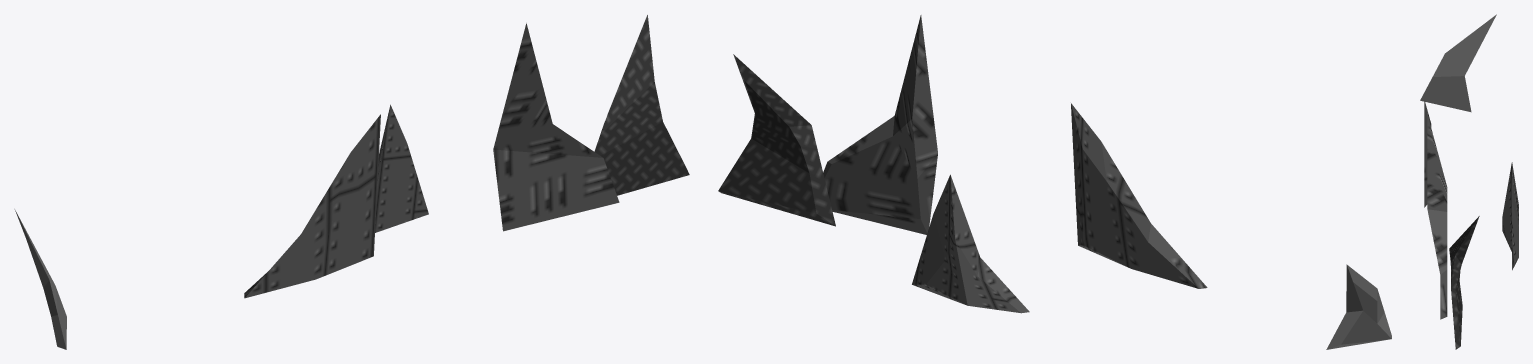
The model's file is Barricade_Shards2.fbx.
The picture shows the model from 3 angles, left to right: view 1: azimuth 30°, elevation 25°; view 2: azimuth 150°, elevation 25°; view 3: azimuth 270°, elevation 25°; orthographic projection. The views are drawn at different scales.
Parts seen in each view (by area): view 1: Shards 1.001; view 2: Shards 1.001; view 3: Shards 1.001.
Part boxes in pixels (<box>): Shards 1.001: <box>14,15,689,349</box>; Shards 1.001: <box>718,15,1391,349</box>; Shards 1.001: <box>1420,14,1518,349</box>.
Bounding box in the file's own units: 429 × 142 × 71.22.
